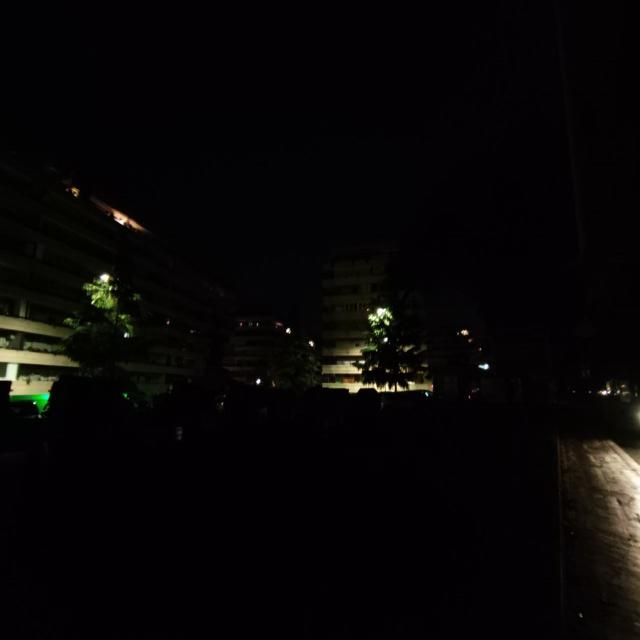lampione: (96, 270, 112, 288)
